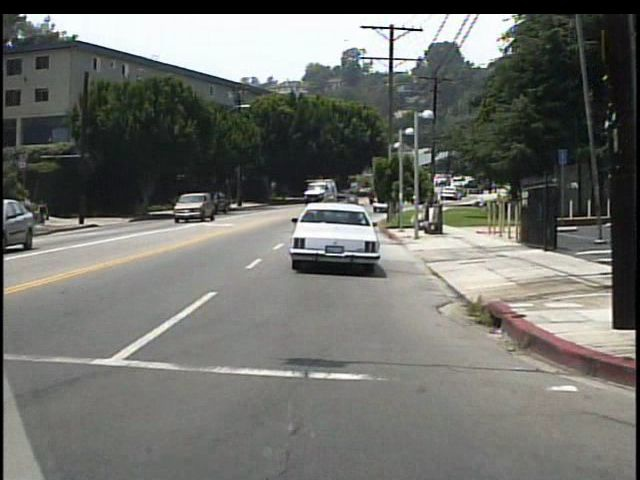person: (44, 198, 50, 227)
